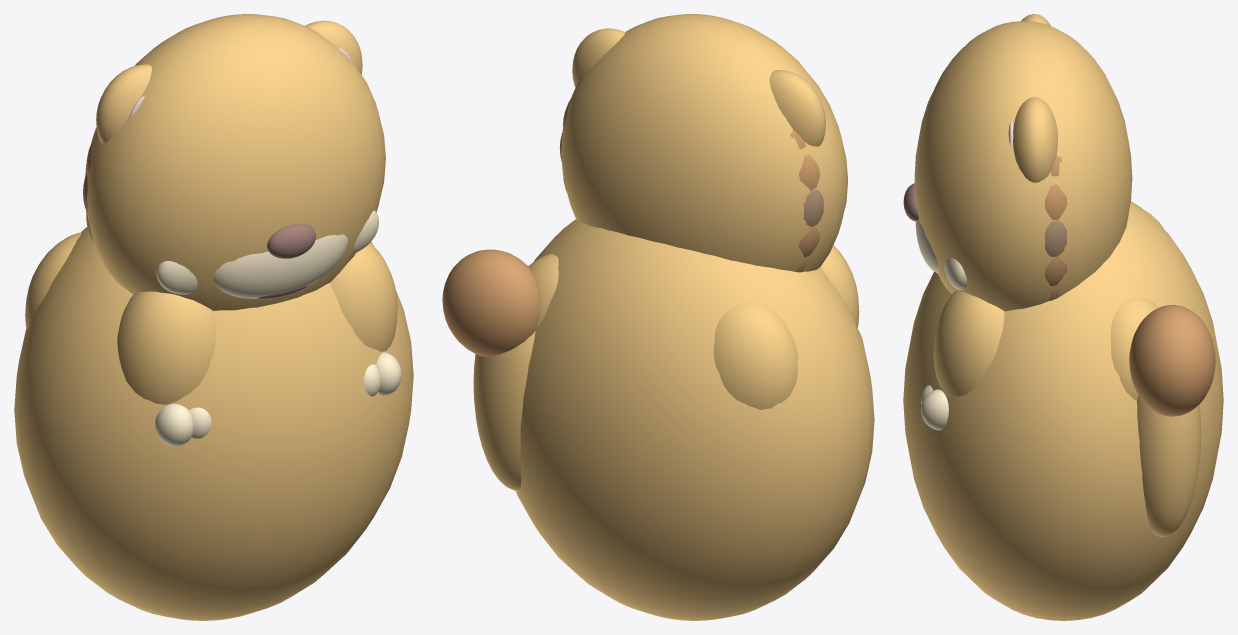
File: lion.gltf
The picture shows the model from 3 angles, left to right: view 1: azimuth 30°, elevation 25°; view 2: azimuth 150°, elevation 25°; view 3: azimuth 270°, elevation 25°; orthographic projection. The views are drawn at different scales.
Visible parts, largest first — view 1: Body, Head, PawFront (×2), Muzzle, Ear (×2), Toe (×2), PawBack, Cheek (×2), Nose; view 2: Body, Head, TailTip, PawBack (×2), Tail, Ear (×2), PawFront, ManeTuft12; view 3: Body, Head, TailTip, Tail, PawFront, Ear, PawBack, Toe, ManeTuft0, ManeTuft1, Muzzle, Cheek (+1 smaller).
Boxes of the visible parts, bbox=[...] form: Body: bbox=[14, 227, 413, 620]; Head: bbox=[85, 14, 385, 310]; PawFront (×2): bbox=[117, 243, 397, 404]; Muzzle: bbox=[213, 234, 347, 298]; Ear (×2): bbox=[96, 20, 362, 143]; Toe (×2): bbox=[155, 352, 401, 446]; PawBack: bbox=[25, 232, 81, 328]; Cheek (×2): bbox=[156, 210, 378, 294]; Nose: bbox=[267, 223, 315, 258]; Body: bbox=[515, 219, 874, 620]; Head: bbox=[561, 14, 847, 271]; TailTip: bbox=[442, 249, 540, 356]; PawBack (×2): bbox=[528, 254, 798, 409]; Tail: bbox=[473, 331, 535, 490]; Ear (×2): bbox=[572, 28, 825, 146]; PawFront: bbox=[820, 245, 859, 327]; ManeTuft12: bbox=[803, 189, 823, 226]; Body: bbox=[903, 201, 1223, 620]; Head: bbox=[914, 21, 1132, 311]; TailTip: bbox=[1129, 305, 1215, 416]; Tail: bbox=[1137, 395, 1201, 537]; PawFront: bbox=[933, 291, 1004, 396]; Ear: bbox=[1013, 97, 1057, 182]; PawBack: bbox=[1110, 297, 1158, 400]; Toe: bbox=[921, 389, 948, 430]; ManeTuft0: bbox=[1045, 220, 1066, 256]; ManeTuft1: bbox=[1045, 184, 1067, 219]; Muzzle: bbox=[915, 218, 938, 273]; Cheek: bbox=[944, 258, 967, 289].
Size of the model in its own units: 1.38 by 2.12 by 1.08.
